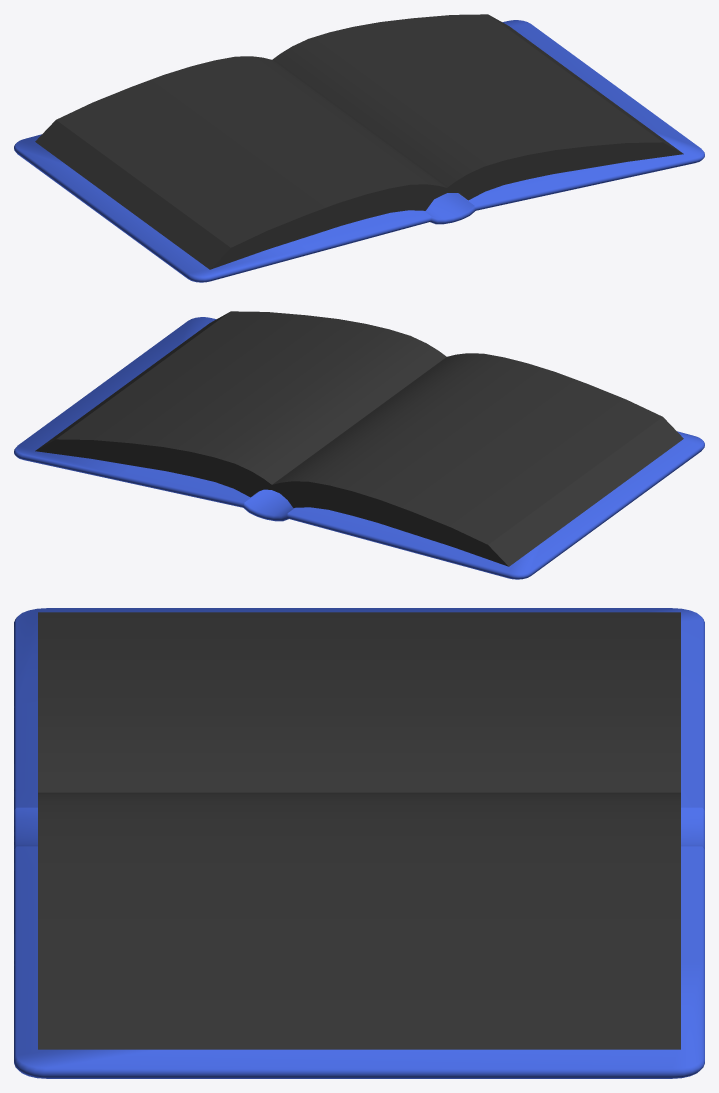
The model's file is SM_Book_NoAni.fbx.
3 views of the same model, one above another, from view 1: azimuth 30°, elevation 25°; view 2: azimuth 150°, elevation 25°; view 3: azimuth 270°, elevation 25° (orthographic). The views are drawn at different scales.
Parts seen in each view (by area): view 1: Paper.001, Cover.001; view 2: Paper.001, Cover.001; view 3: Paper.001, Cover.001.
Part boxes in pixels (x1,y1,x2,y2): Paper.001: (35, 14, 683, 269); Cover.001: (14, 20, 704, 282); Paper.001: (35, 311, 683, 566); Cover.001: (14, 317, 704, 579); Paper.001: (38, 612, 680, 1049); Cover.001: (14, 608, 704, 1078).
Bounding box in the file's own units: 2002 × 174 × 1266.
